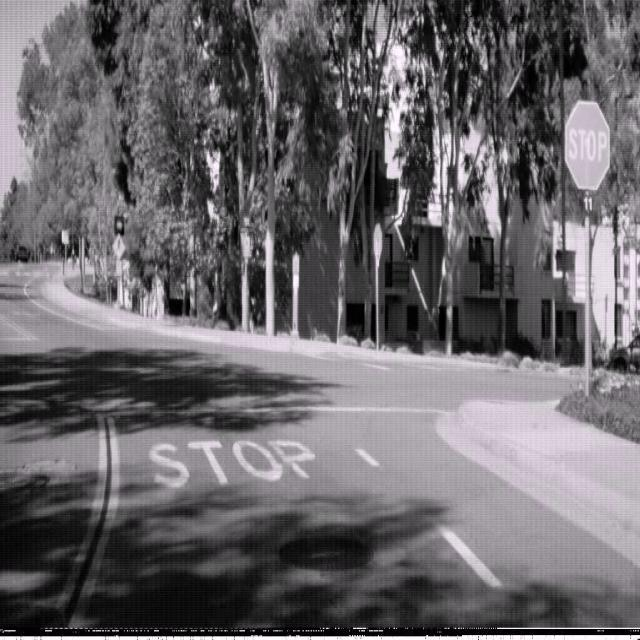stop_sign: (564, 99, 610, 190)
